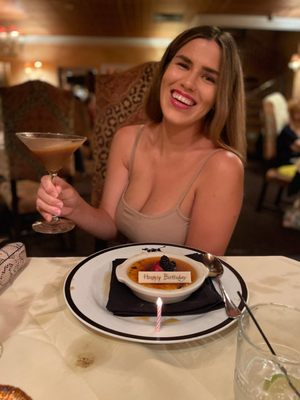pizza: (233, 299, 300, 400)
salad: (185, 250, 241, 318)
sushi: (115, 254, 208, 305), (15, 131, 88, 175)
